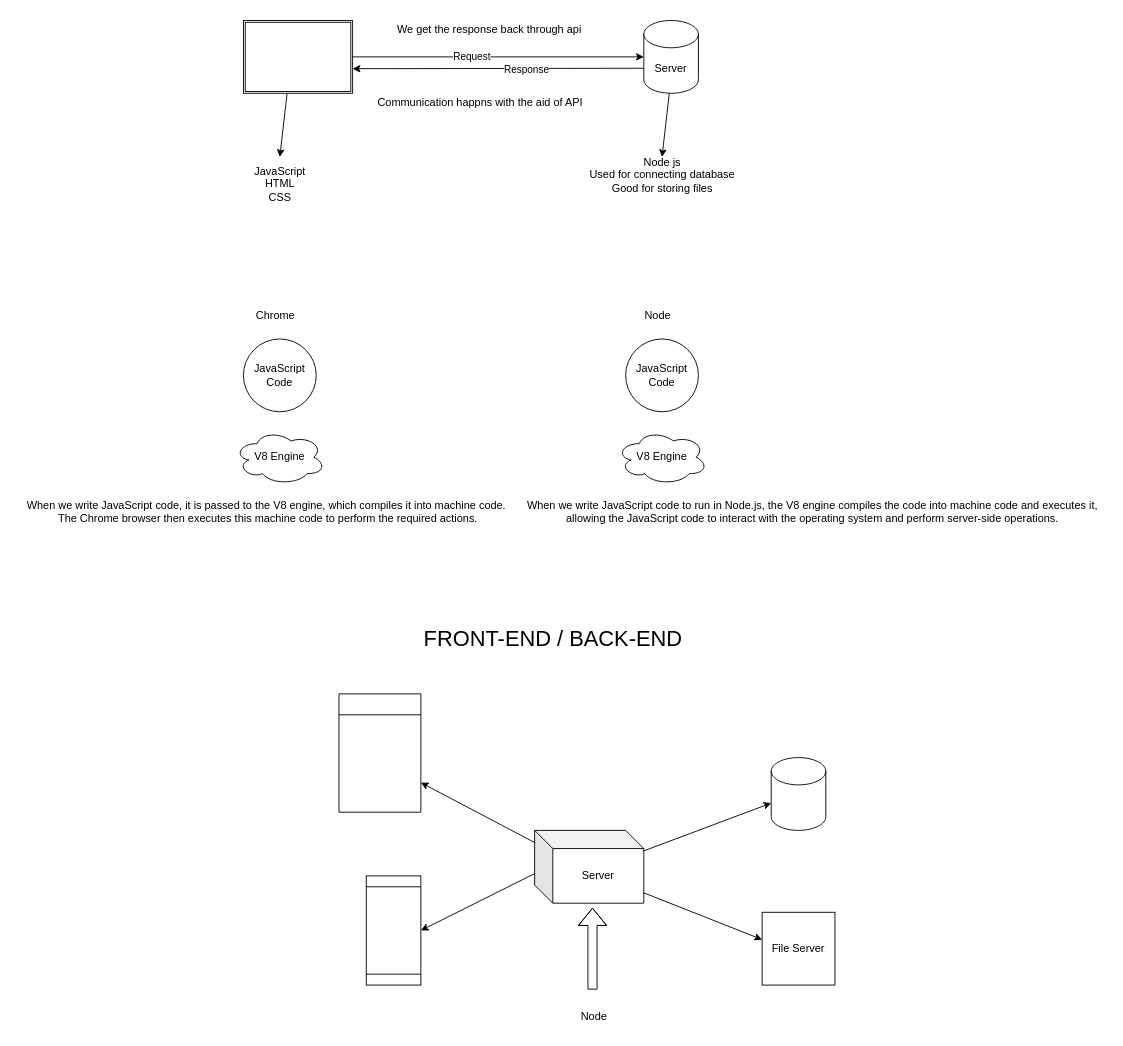
The diagram is 1123 pixels wide and 1046 high, and some of its shapes have lost their labels. Here are the shapes that lost their labels. From the top down, the centre of each, then its label:
At point 298,56: "Client PC".
At point 379,752: "Web App".
At point 798,793: "Database".
At point 393,930: "Mobile App".
